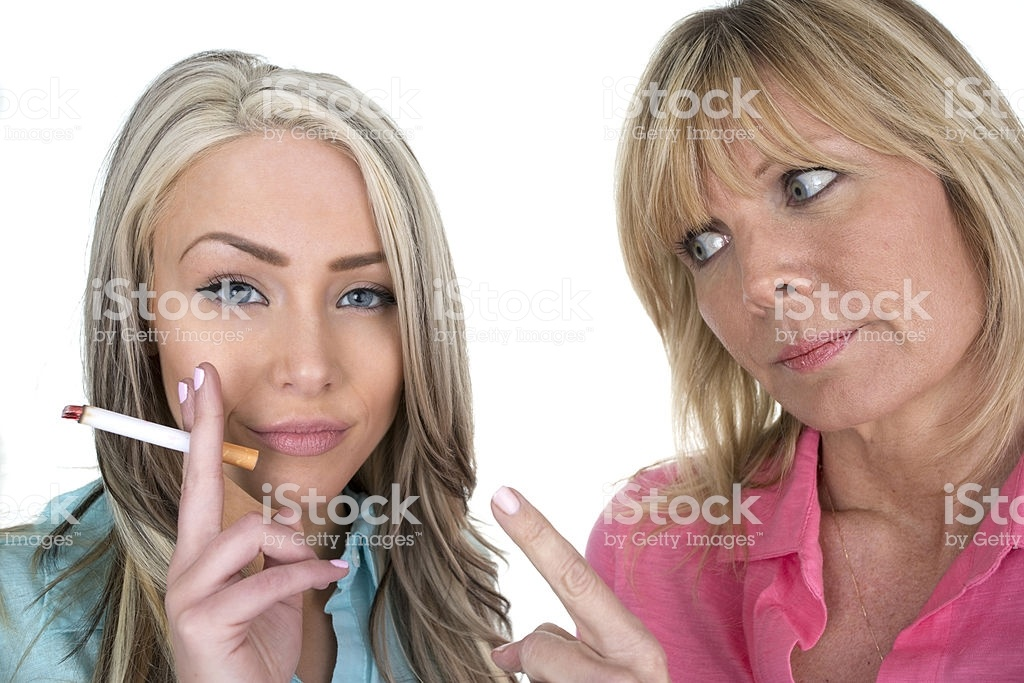sigaretta: (61, 405, 263, 474)
